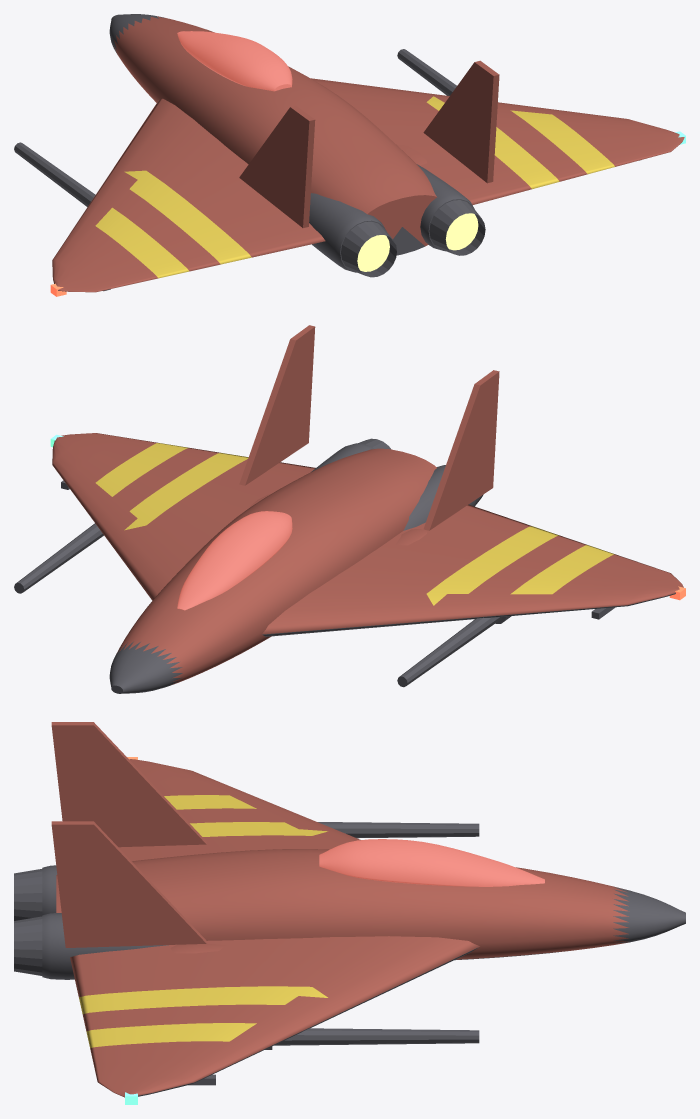
File: viper.glb
3 views of the same model, one above another, from view 1: azimuth 30°, elevation 25°; view 2: azimuth 150°, elevation 25°; view 3: azimuth 270°, elevation 25° (orthographic). The views are drawn at different scales.
Visible parts, largest first — view 1: Viper_Hull; view 2: Viper_Hull; view 3: Viper_Hull.
Part boxes in pixels (bbox=[...]): Viper_Hull: bbox=[14, 14, 685, 296]; Viper_Hull: bbox=[14, 325, 685, 693]; Viper_Hull: bbox=[14, 722, 685, 1104].
Bounding box in the file's own units: 8.54 × 2.11 × 7.15.
